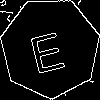E: (25, 22, 67, 75)
